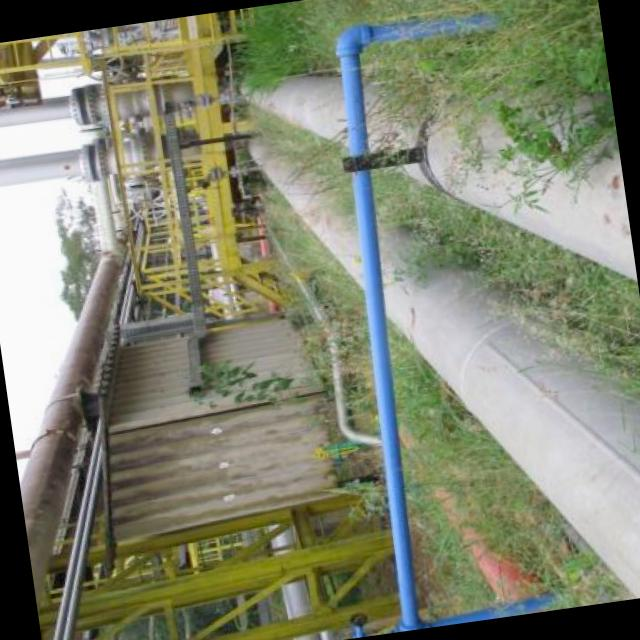gas: (310, 26, 450, 628), (438, 277, 640, 619), (416, 45, 638, 305), (20, 256, 124, 591), (267, 146, 360, 301), (238, 52, 339, 164), (0, 83, 120, 138), (353, 9, 501, 53), (0, 143, 126, 194)
